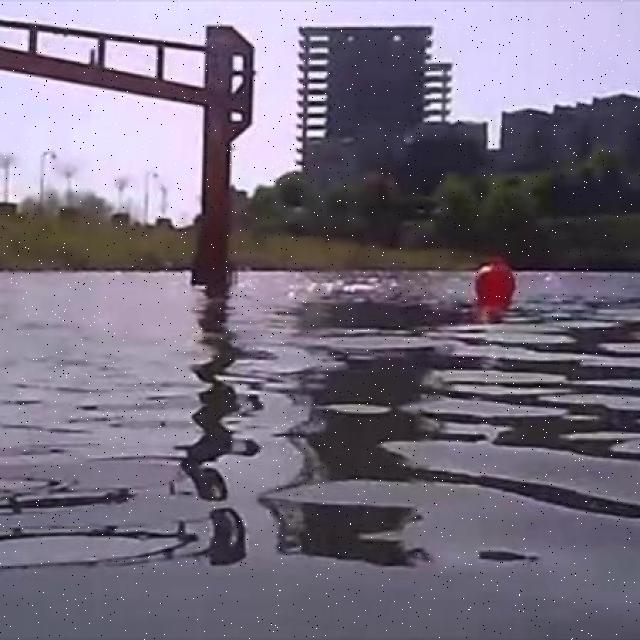buoy: (474, 260, 516, 304)
